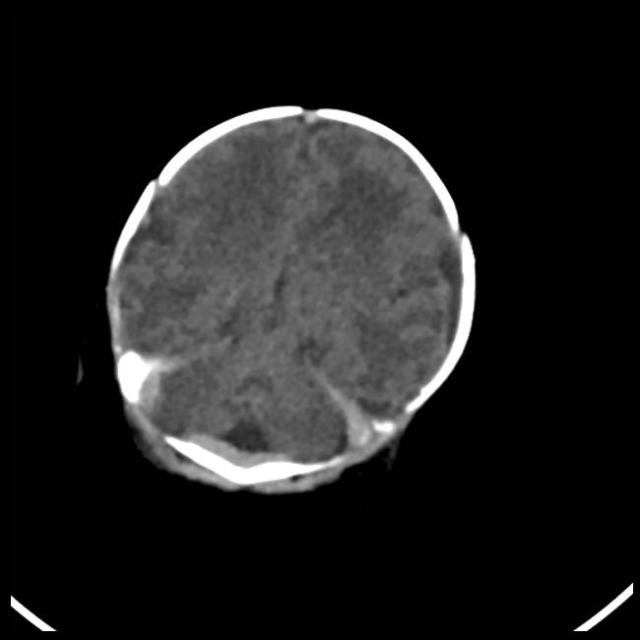lesion: (96, 100, 482, 500)
